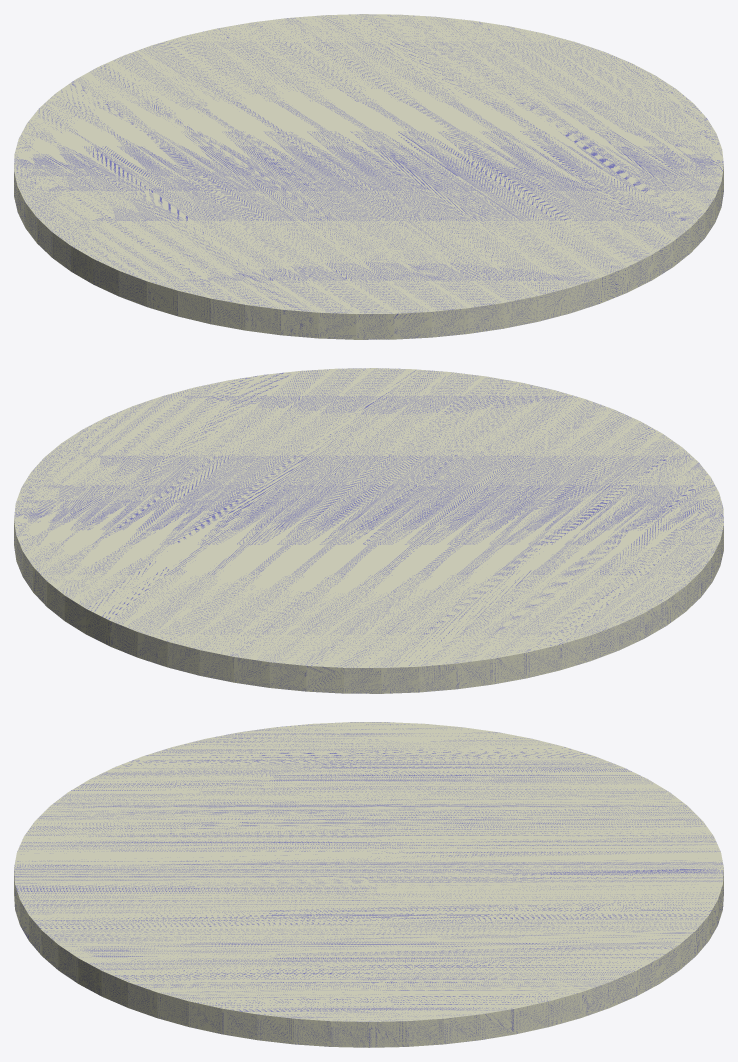
The picture shows the model from 3 angles, top to bottom: view 1: azimuth 30°, elevation 25°; view 2: azimuth 150°, elevation 25°; view 3: azimuth 270°, elevation 25°; orthographic projection.
Parts seen in each view (by area): view 1: SketchUp (×2); view 2: SketchUp (×2); view 3: SketchUp (×2).
Boxes of the visible parts, x1=… form: SketchUp (×2): x1=14, y1=14, x2=723, y2=339; SketchUp (×2): x1=14, y1=368, x2=723, y2=693; SketchUp (×2): x1=14, y1=722, x2=723, y2=1047.
Size of the model in its own units: 39.34 by 39.36 by 1.57.
